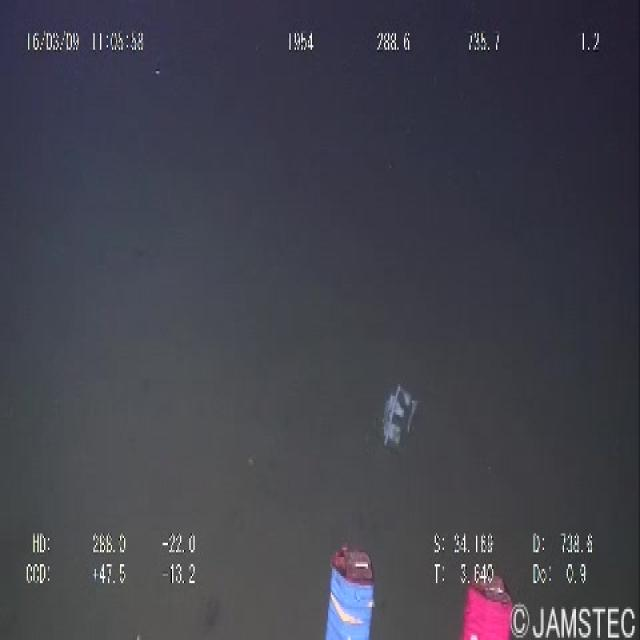plastic: (373, 368, 423, 464)
